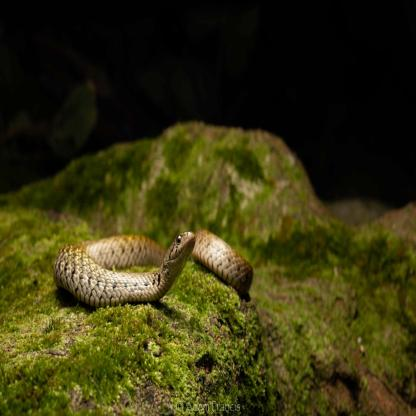Snake: (50, 222, 254, 305)
